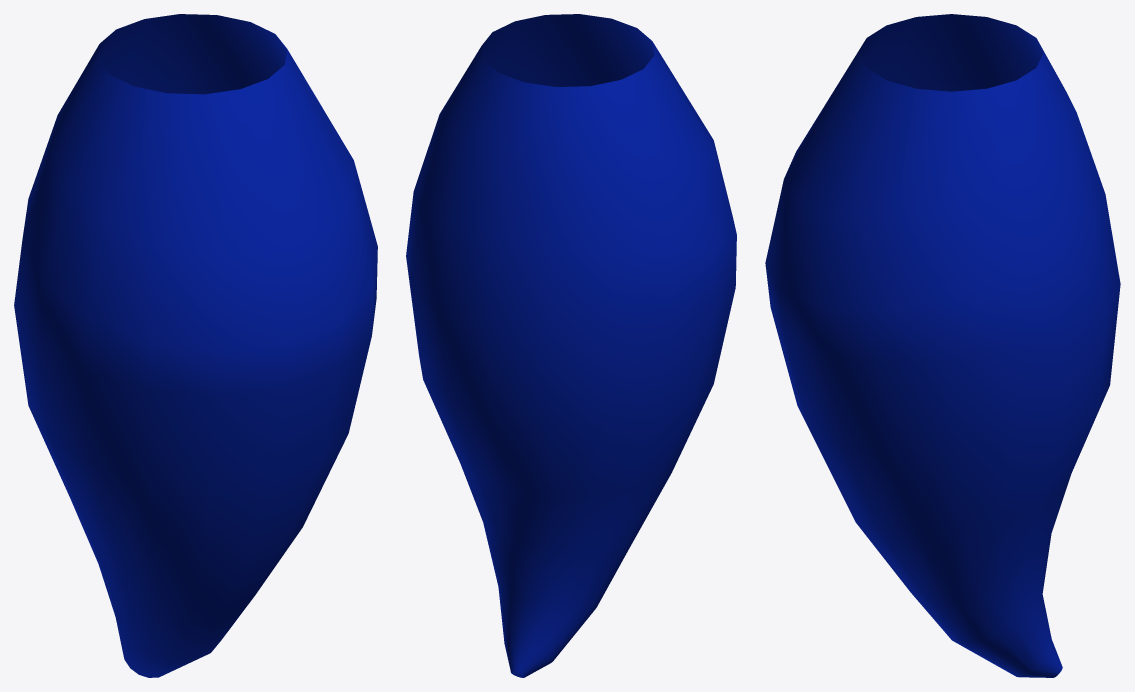
The model's file is brushTip_01.fbx.
3 views of the same model, side by side, from view 1: azimuth 30°, elevation 25°; view 2: azimuth 150°, elevation 25°; view 3: azimuth 270°, elevation 25° (orthographic). The views are drawn at different scales.
Parts seen in each view (by area): view 1: brush_tip_01; view 2: brush_tip_01; view 3: brush_tip_01.
Boxes of the visible parts, <box> form: brush_tip_01: <box>14,14,377,677</box>; brush_tip_01: <box>406,14,736,677</box>; brush_tip_01: <box>765,14,1120,677</box>.
Size of the model in its own units: 0.3539 by 0.6943 by 0.3582.
